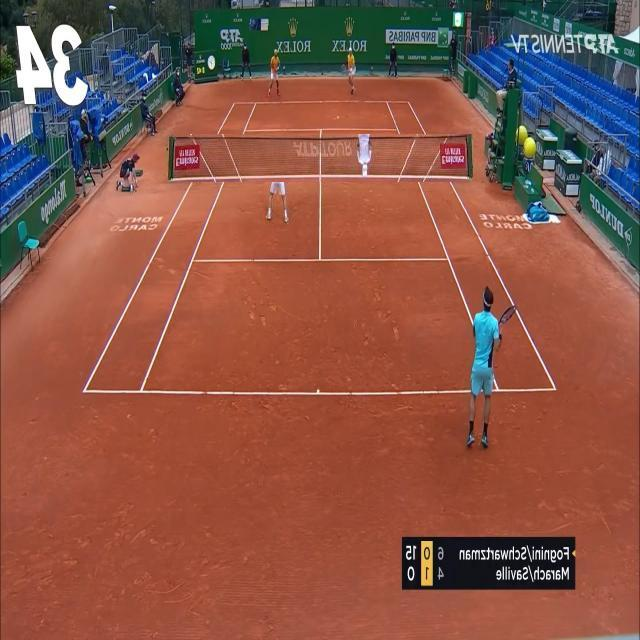court: (82, 100, 557, 393)
net: (168, 134, 473, 182)
player: (466, 285, 517, 450), (266, 139, 290, 224)
